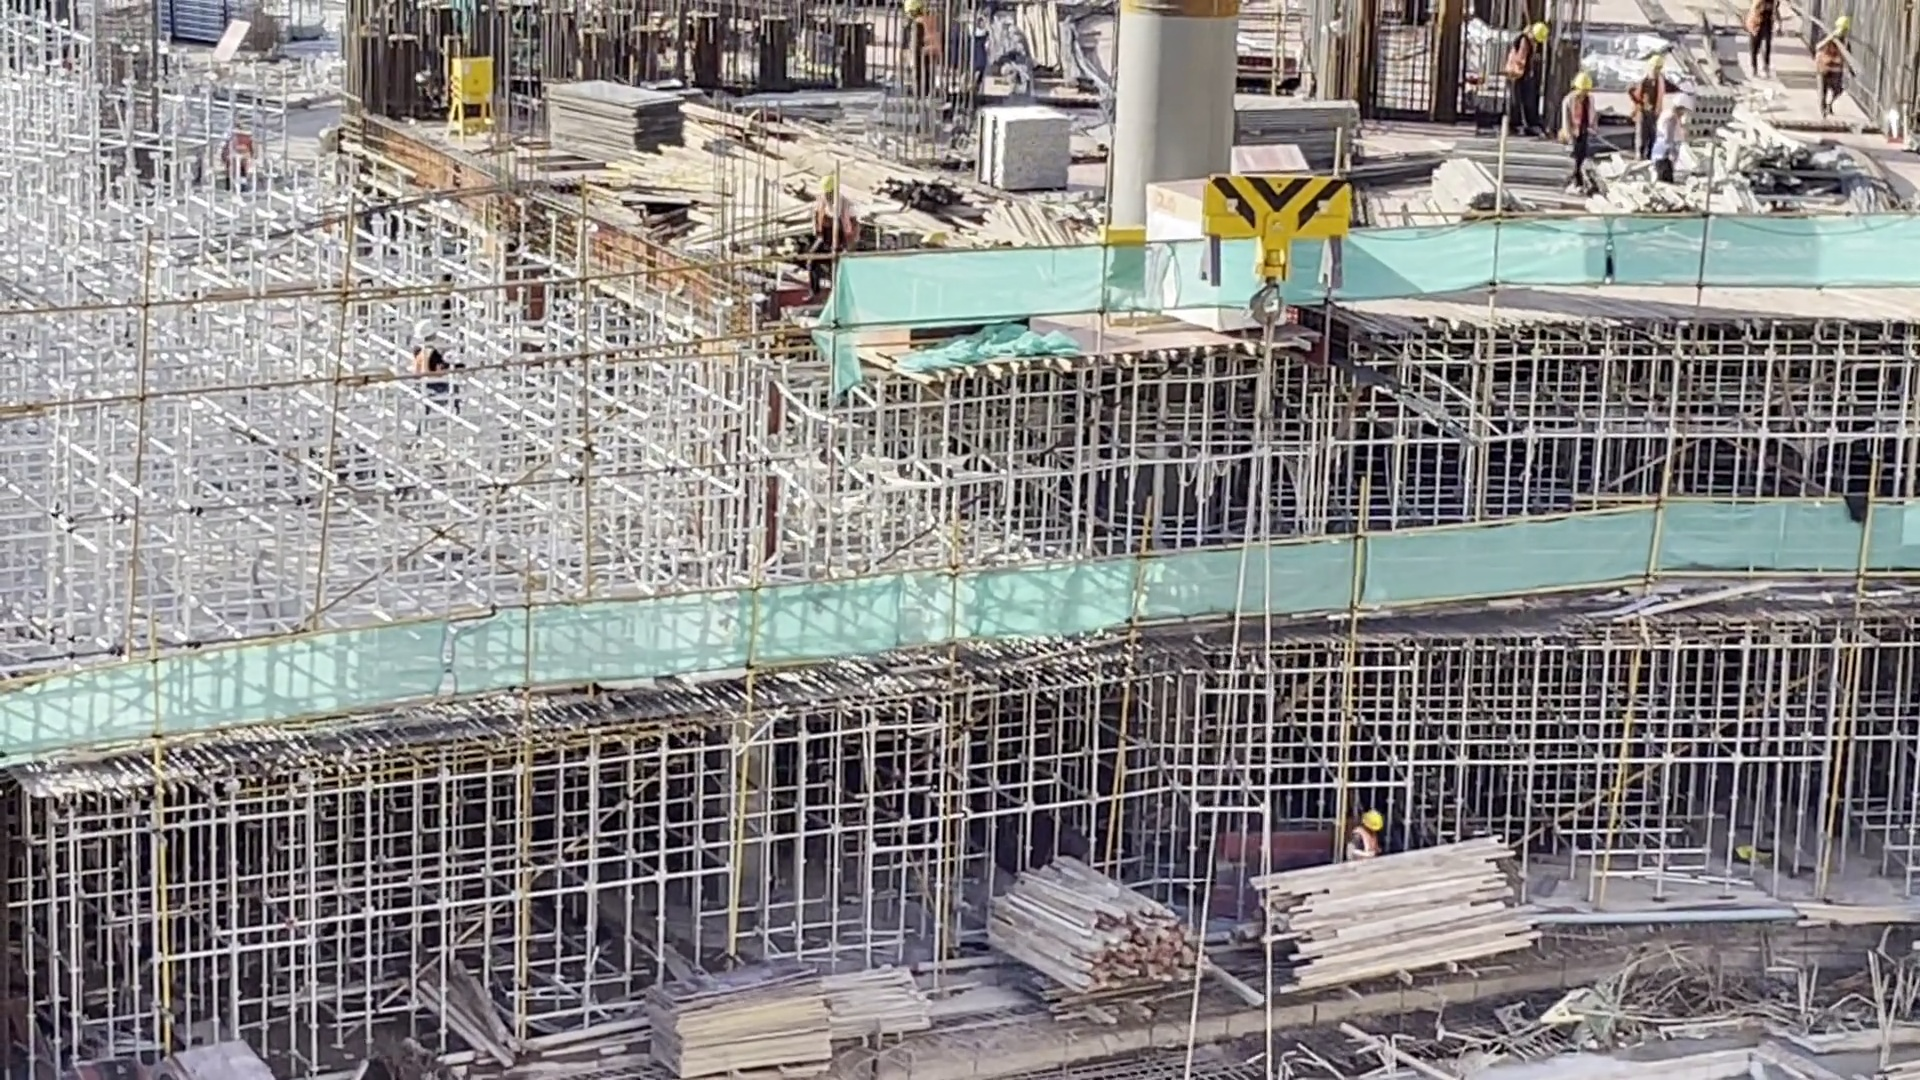board: (647, 958, 839, 1080), (544, 72, 689, 167), (166, 1034, 278, 1080), (67, 1049, 157, 1080), (1232, 140, 1307, 174)
ebox: (445, 53, 493, 143)
helmet: (413, 319, 436, 339), (1359, 810, 1382, 830), (1532, 21, 1548, 44), (816, 175, 833, 194), (1572, 72, 1592, 89), (903, 1, 925, 14), (1835, 15, 1851, 30), (1647, 55, 1664, 67)
hook: (1203, 171, 1366, 330)
person: (1500, 18, 1549, 141), (1626, 56, 1683, 157), (1560, 72, 1598, 193), (1818, 15, 1857, 117), (411, 314, 464, 370), (898, 1, 929, 96), (1745, 4, 1784, 76), (803, 175, 833, 254), (1344, 804, 1386, 858)
scaffold: (980, 101, 1076, 197), (159, 1, 224, 47)
vest: (1633, 72, 1666, 115), (1569, 94, 1596, 137), (1505, 36, 1526, 78), (1348, 828, 1378, 857)
wood: (1243, 869, 1543, 989), (980, 856, 1208, 994), (1425, 153, 1495, 213)
